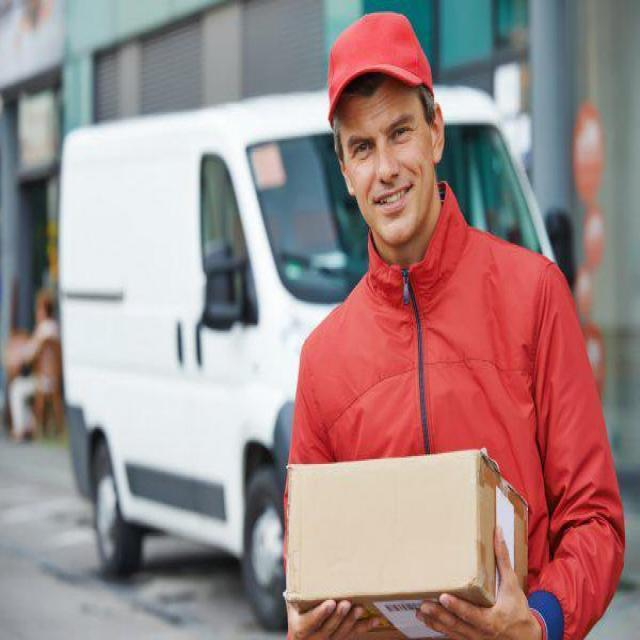box: (286, 453, 530, 640)
